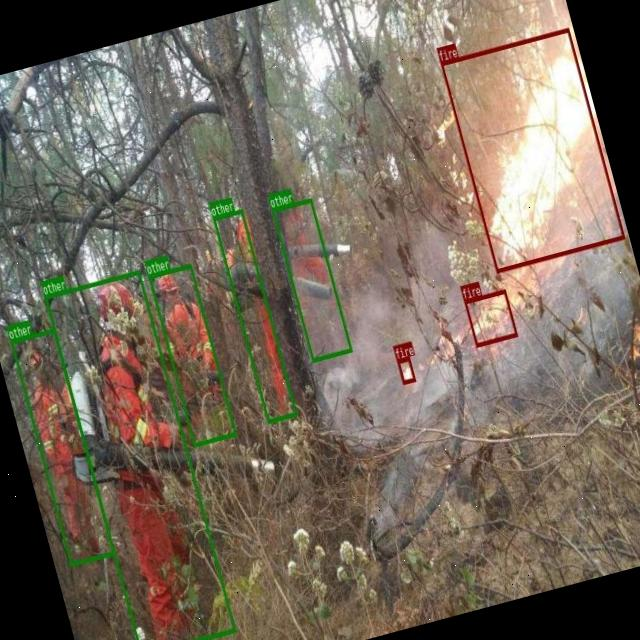fire: (440, 26, 625, 272), (463, 289, 518, 346), (397, 356, 416, 384)
